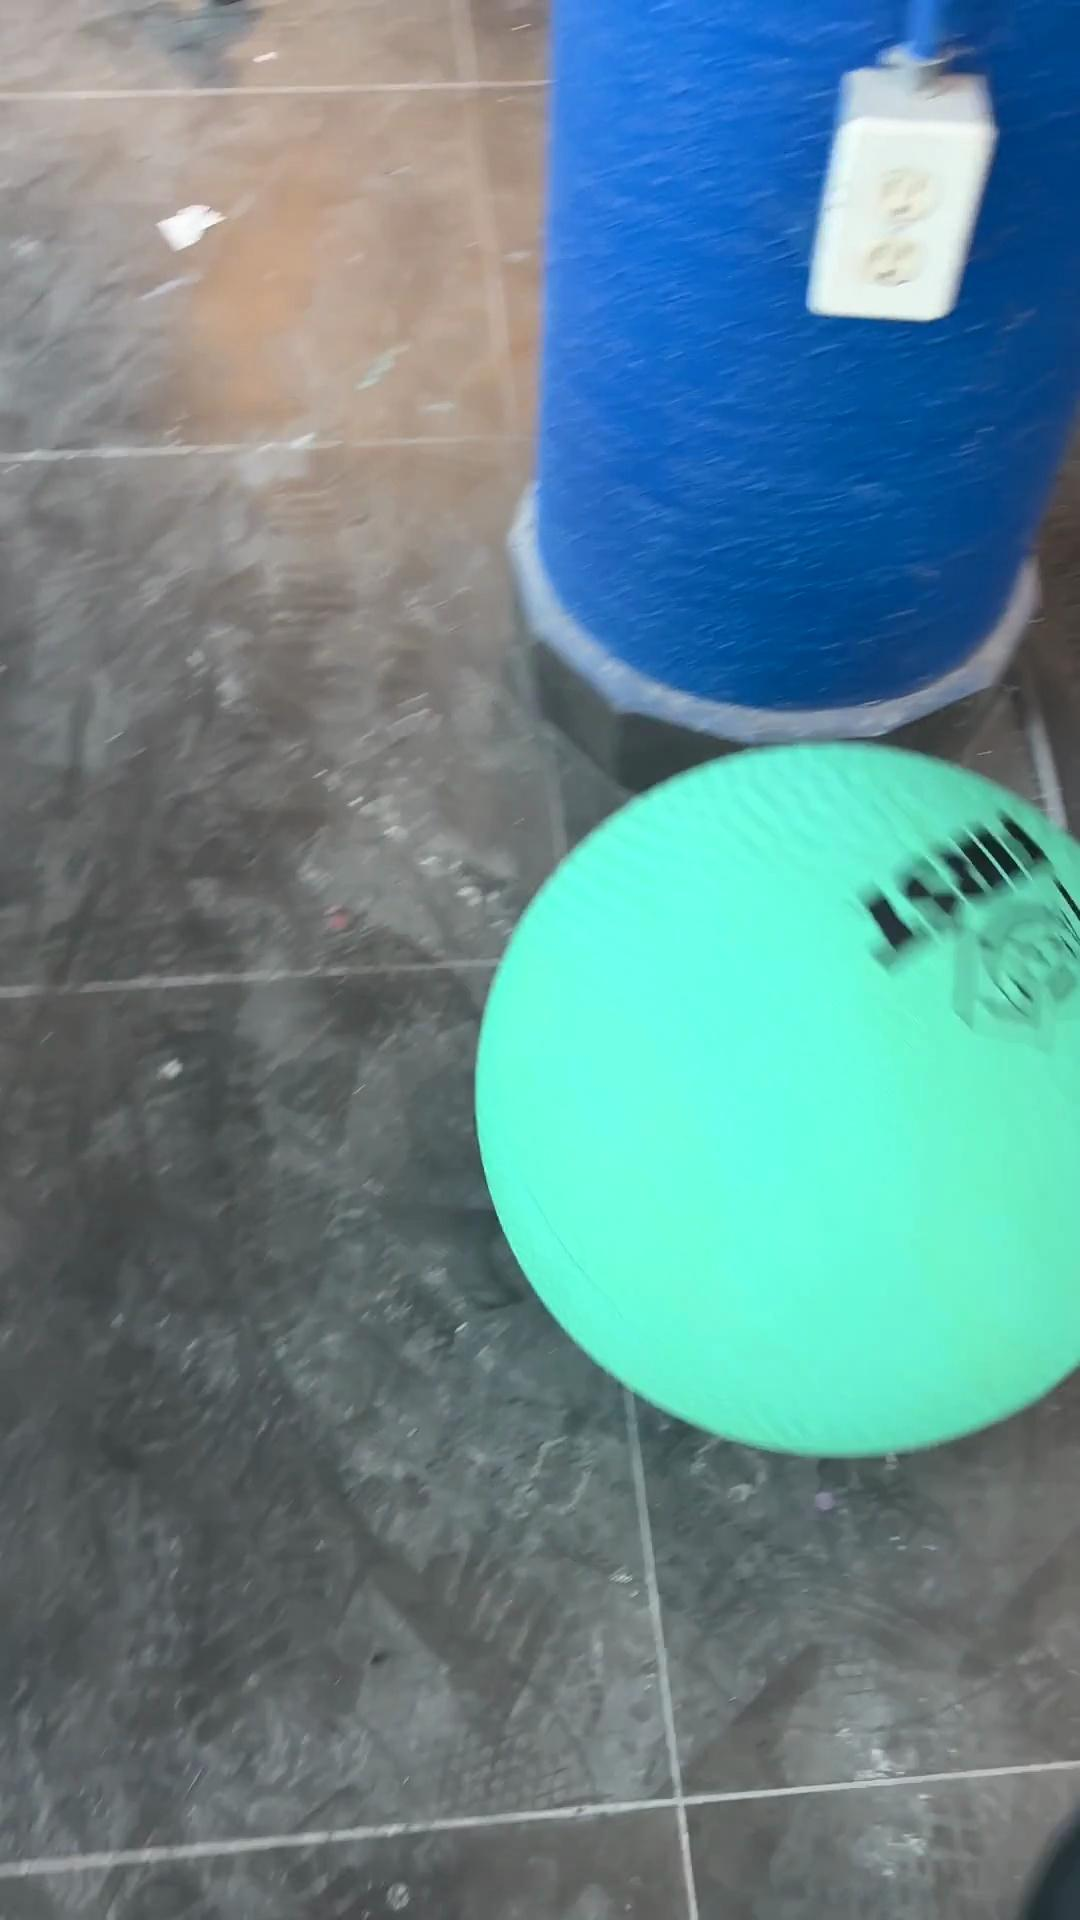ALGAE: (469, 737, 1077, 1462)
